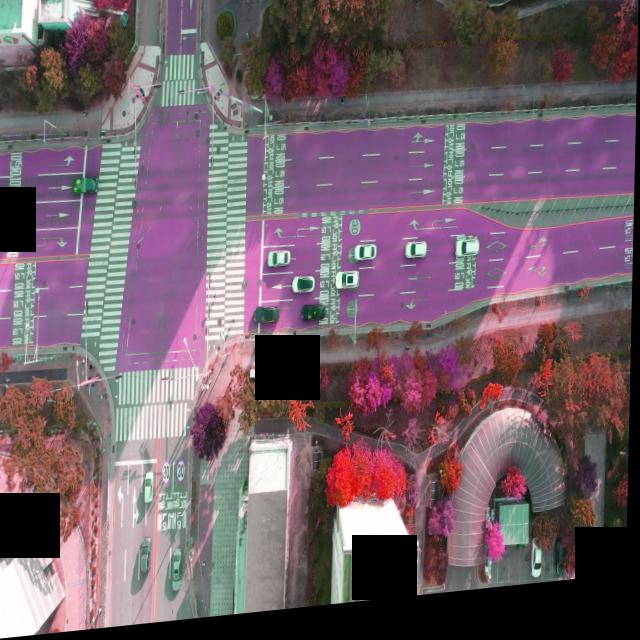car: (456, 245, 479, 269), (173, 555, 184, 597), (406, 248, 429, 268), (337, 278, 360, 298), (257, 312, 281, 331), (303, 310, 328, 328), (268, 255, 290, 275), (354, 250, 375, 270), (294, 283, 316, 301), (142, 540, 152, 579), (534, 558, 543, 591), (145, 479, 154, 509)
small_truck: (72, 178, 98, 197)
